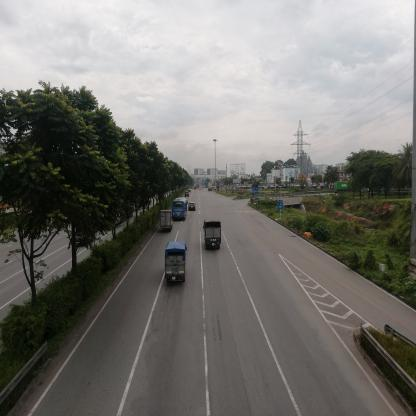bus: (172, 199, 187, 223)
car: (189, 204, 196, 211)
truck: (164, 242, 186, 283), (205, 221, 222, 251), (161, 211, 172, 232)
